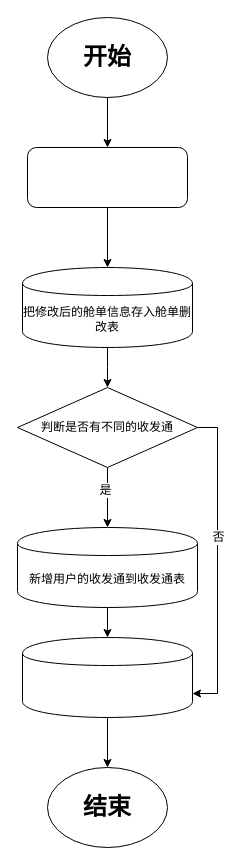
This 243x865 diagram has some shape labels left out. Here are the shapes that lost their labels. From the top down, the centre of each, then its label:
At [107,177]: "接收用户录入的修改数据".
At [107,677]: "舱币扣除新增消费记录到消费记录表".
